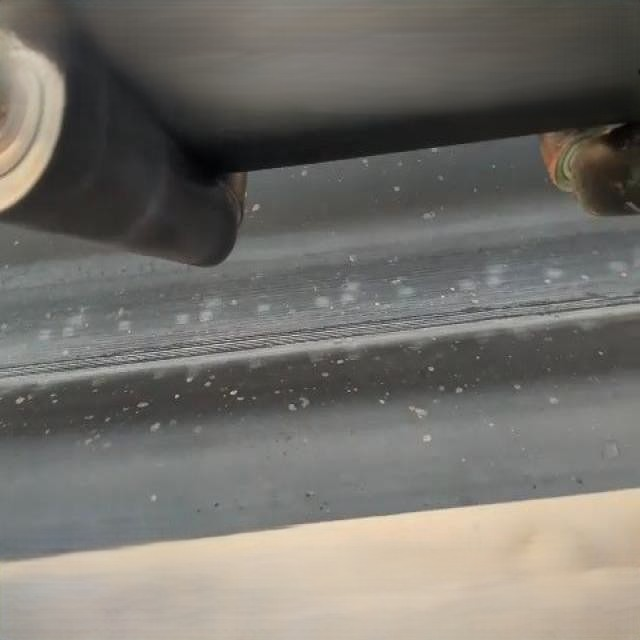Wear: (0, 286, 640, 386)
